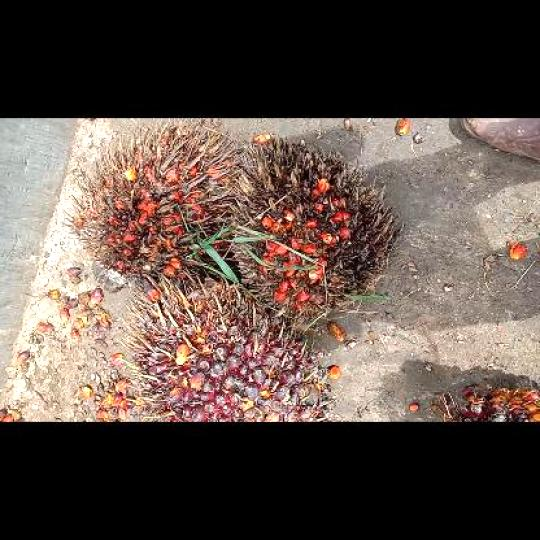masak: (120, 272, 340, 421)
terlalu masak: (206, 131, 404, 316), (58, 125, 236, 288)
